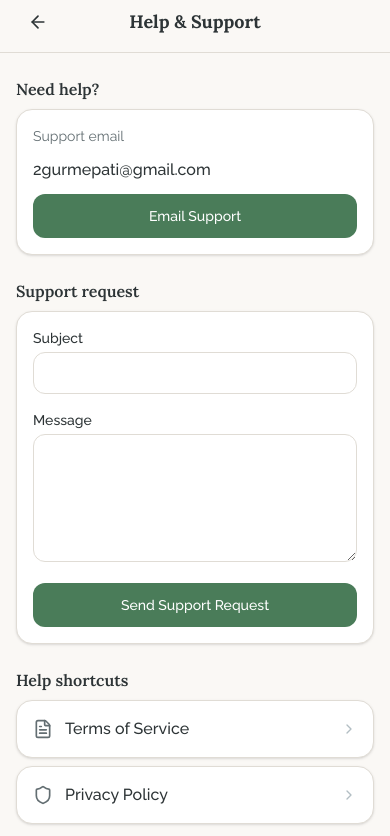
it: SupportPage › shows fallback copy when mail launch throws
The image size is (390, 836).
Click the button "Email Support" at (195, 216), box [33,194,357,238]
(page scrolled)
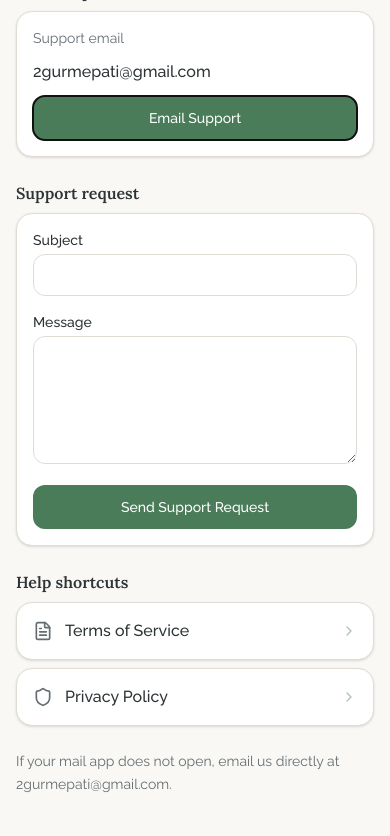
Check: the text "email us directly at 2gurmepati@gmail.com" is shown, box [16,753,339,792]
